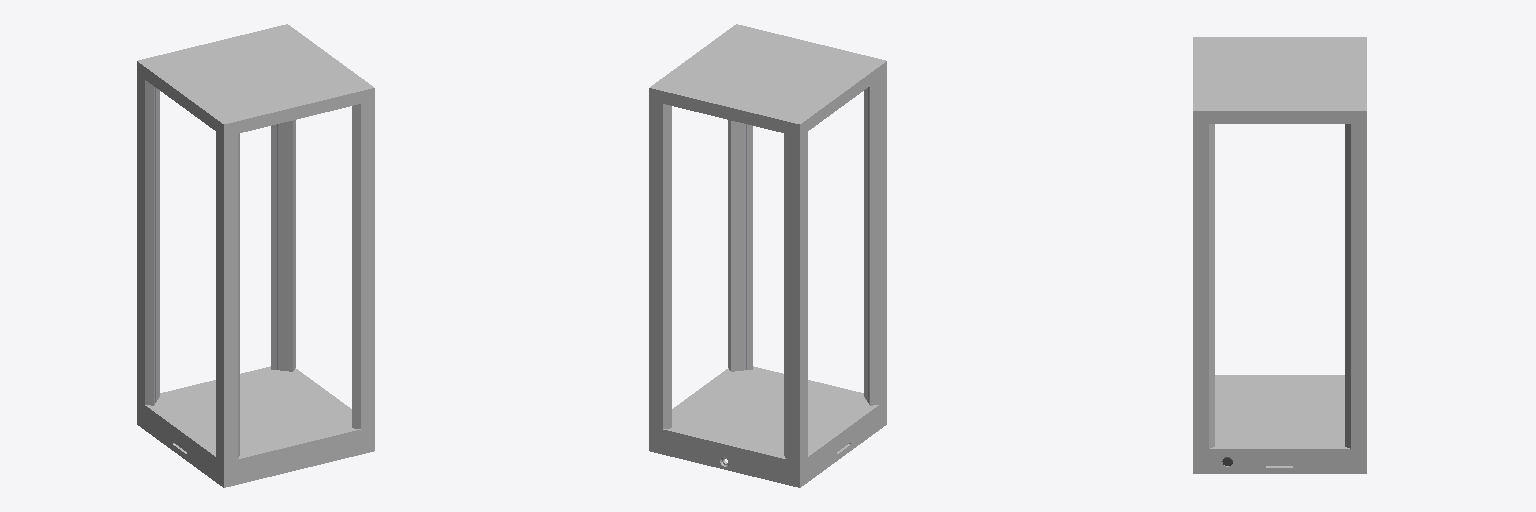
The picture shows the model from 3 angles: view 1: azimuth 30°, elevation 25°; view 2: azimuth 150°, elevation 25°; view 3: azimuth 270°, elevation 25°; orthographic projection.
Visible parts, largest first — view 1: PROTO.007_Cube.031, Cube_Cube.001, Cube.001_Cube.006, Cube.021_Cube.061, Cube.022_Cube.062; view 2: PROTO.007_Cube.031, Cube_Cube.001, Cube.001_Cube.006, Cube.021_Cube.061, Cube.022_Cube.062; view 3: Cube.001_Cube.006, PROTO.007_Cube.031, Cube_Cube.001.
Part boxes in pixels (left/top/right/bottom): PROTO.007_Cube.031: left=137, top=74, right=374, bottom=462; Cube_Cube.001: left=137, top=366, right=374, bottom=487; Cube.001_Cube.006: left=137, top=24, right=374, bottom=136; Cube.021_Cube.061: left=156, top=88, right=286, bottom=401; Cube.022_Cube.062: left=155, top=87, right=277, bottom=402; PROTO.007_Cube.031: left=649, top=74, right=886, bottom=462; Cube_Cube.001: left=649, top=366, right=886, bottom=487; Cube.001_Cube.006: left=649, top=24, right=886, bottom=136; Cube.021_Cube.061: left=737, top=88, right=867, bottom=401; Cube.022_Cube.062: left=746, top=87, right=868, bottom=402; Cube.001_Cube.006: left=1193, top=37, right=1366, bottom=123; PROTO.007_Cube.031: left=1193, top=124, right=1366, bottom=448; Cube_Cube.001: left=1193, top=375, right=1366, bottom=473.
Bounding box in the file's own units: 25.08 × 57.5 × 25.